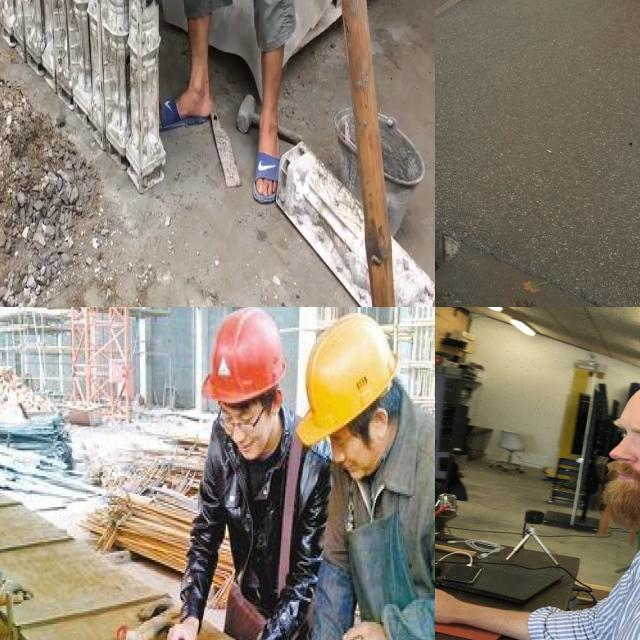No_Ear-Protection: (369, 402, 392, 440), (271, 389, 283, 416)
Sandals: (252, 109, 280, 205)
face_nomask: (231, 415, 272, 460), (332, 445, 379, 480)
hand_noglove: (344, 621, 388, 640), (167, 616, 200, 640)
head_helmet: (298, 313, 397, 445), (202, 308, 286, 403)
